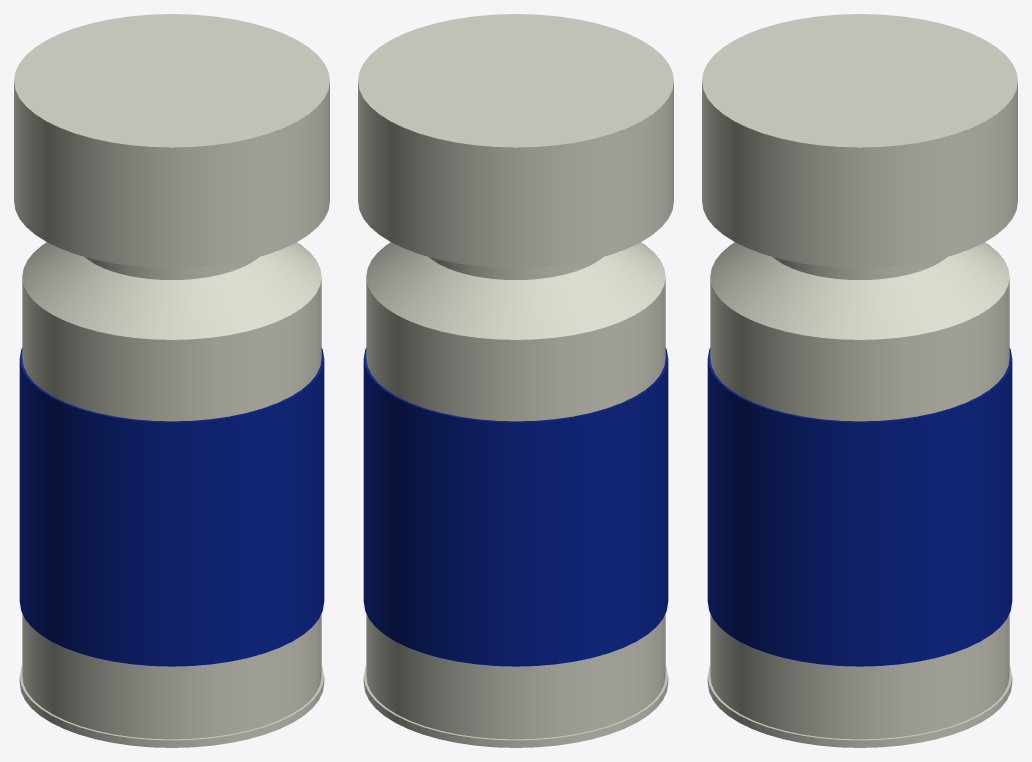
Rendered from antibiotics.glb.
3 views of the same model, side by side, from view 1: azimuth 30°, elevation 25°; view 2: azimuth 150°, elevation 25°; view 3: azimuth 270°, elevation 25° (orthographic).
Visible parts, largest first — view 1: body:vessel; view 2: body:vessel; view 3: body:vessel.
Part boxes in pixels (x1,y1,x2,y2): body:vessel: (14,14,329,747); body:vessel: (358,14,673,747); body:vessel: (702,14,1017,747).
Size of the model in its own units: 0.038 by 0.08 by 0.038.
